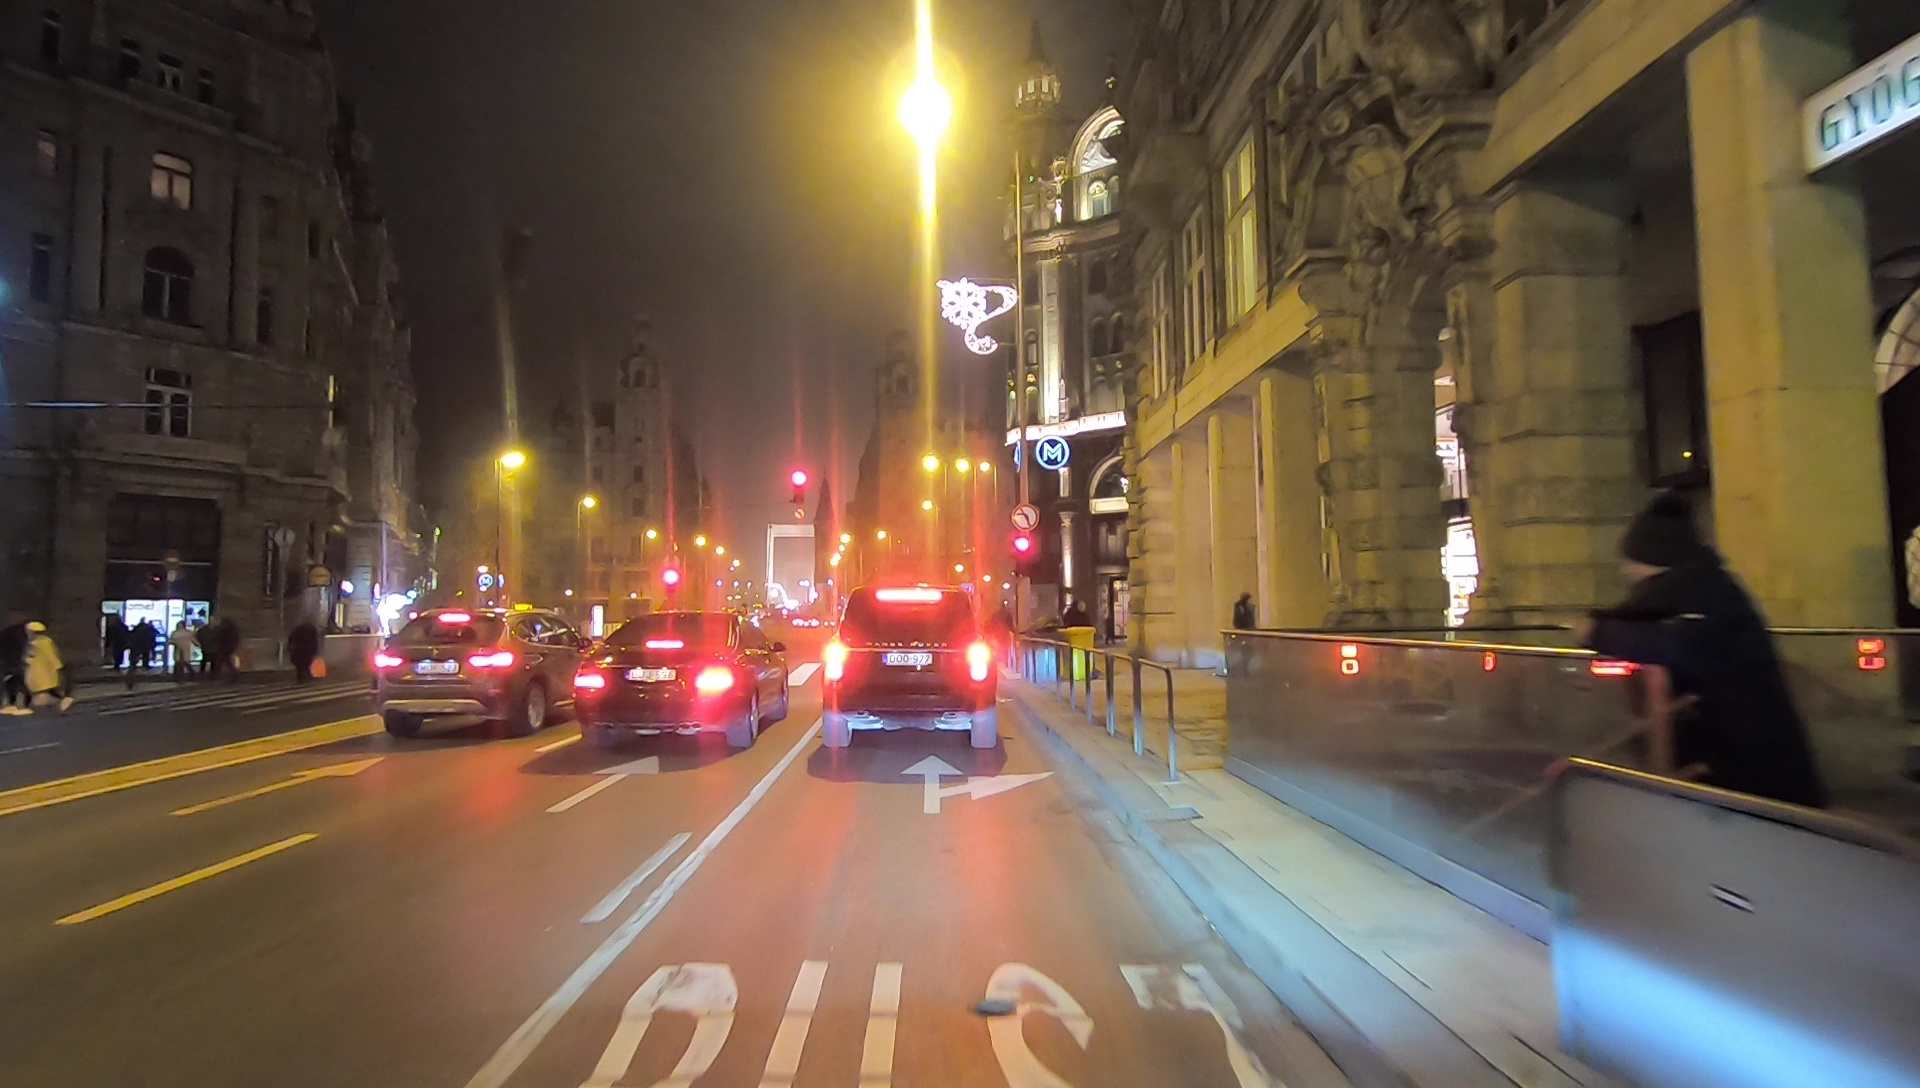person: (1589, 497, 1841, 971), (24, 620, 75, 715), (289, 616, 325, 684), (1230, 593, 1260, 669), (171, 619, 195, 684), (216, 617, 240, 681), (198, 614, 219, 676), (134, 616, 148, 668)
